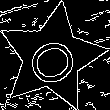O_NE: (19, 27, 85, 88)
